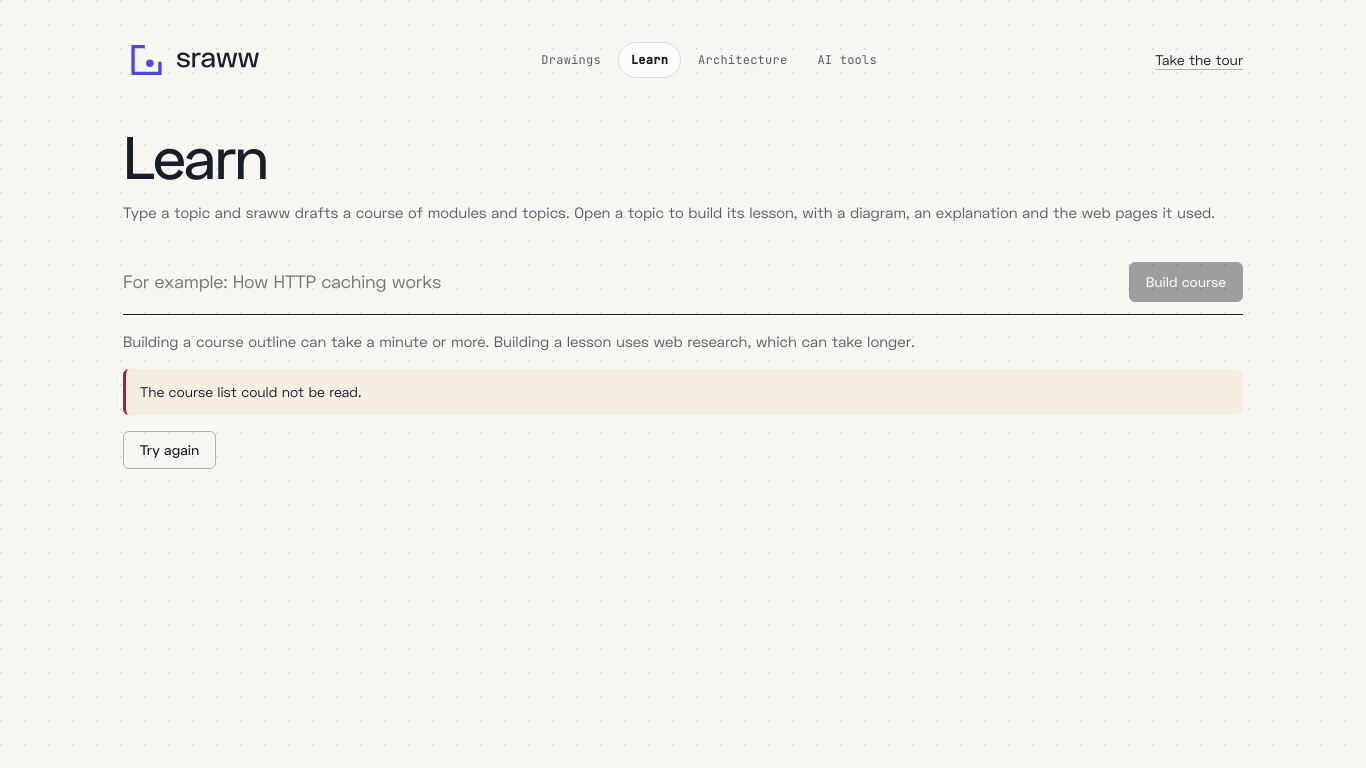
it: LearnPage › a course list that fails to load can be tried again without reloading the page
Expected: the message reads "The course list could not be read.", top-left (140, 383), bottom-right (361, 400)
Click the button with aria-label "Try again: load your courses" at coordinates (170, 450), box top-left (123, 431), bottom-right (216, 469)
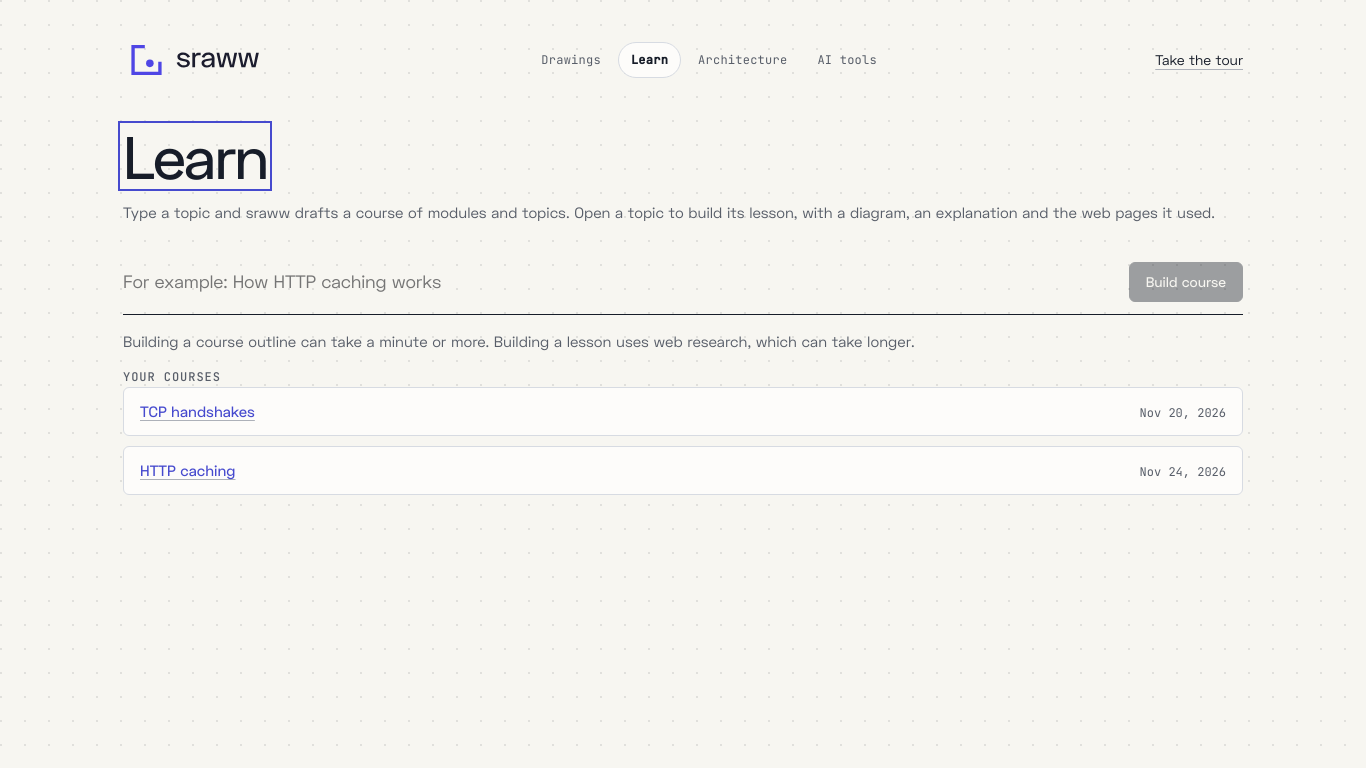
Expected: the link "HTTP caching" is shown, top-left (140, 459), bottom-right (236, 482)
Expected: the message "The course list could not be read." is gone
